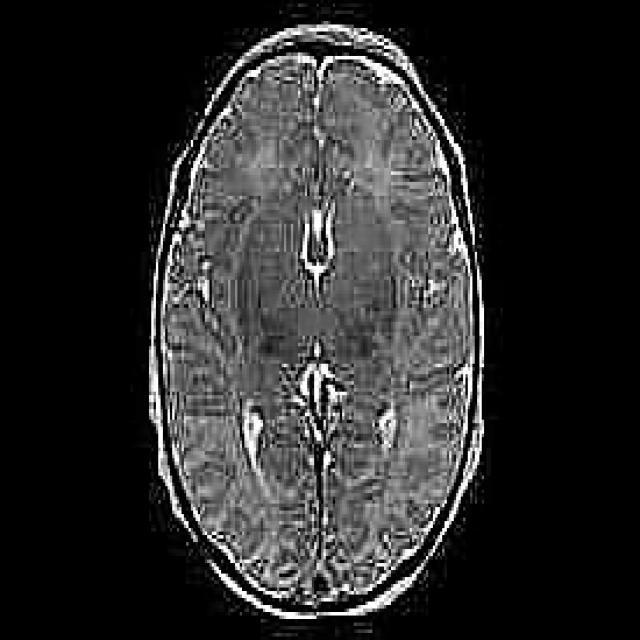notumor: (149, 24, 484, 623)
